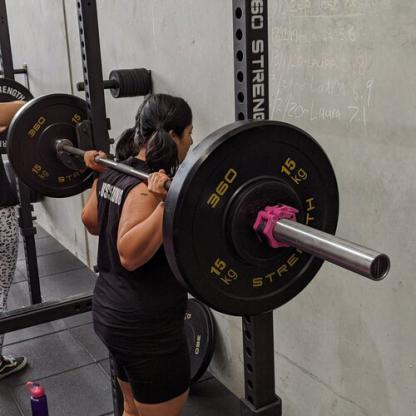Barbell: (160, 112, 350, 322)
